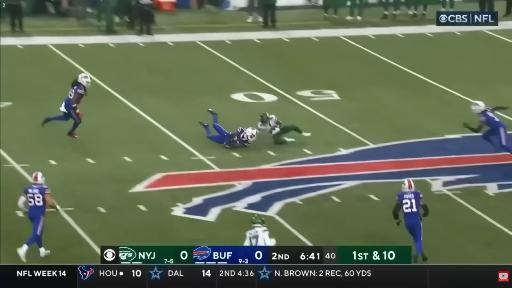Helmet: (31, 171, 45, 185), (78, 73, 91, 87), (471, 101, 486, 113), (246, 128, 257, 141), (252, 215, 265, 225), (403, 180, 414, 191), (260, 113, 269, 123)
Jersey: (397, 191, 422, 225), (24, 185, 50, 217), (60, 81, 86, 112), (244, 225, 275, 245), (479, 109, 504, 130), (258, 115, 279, 131), (232, 128, 250, 146)
Player: (17, 172, 57, 262), (42, 74, 91, 138), (393, 180, 429, 263), (463, 102, 511, 153), (200, 109, 257, 147), (258, 113, 310, 144), (244, 215, 276, 245)
